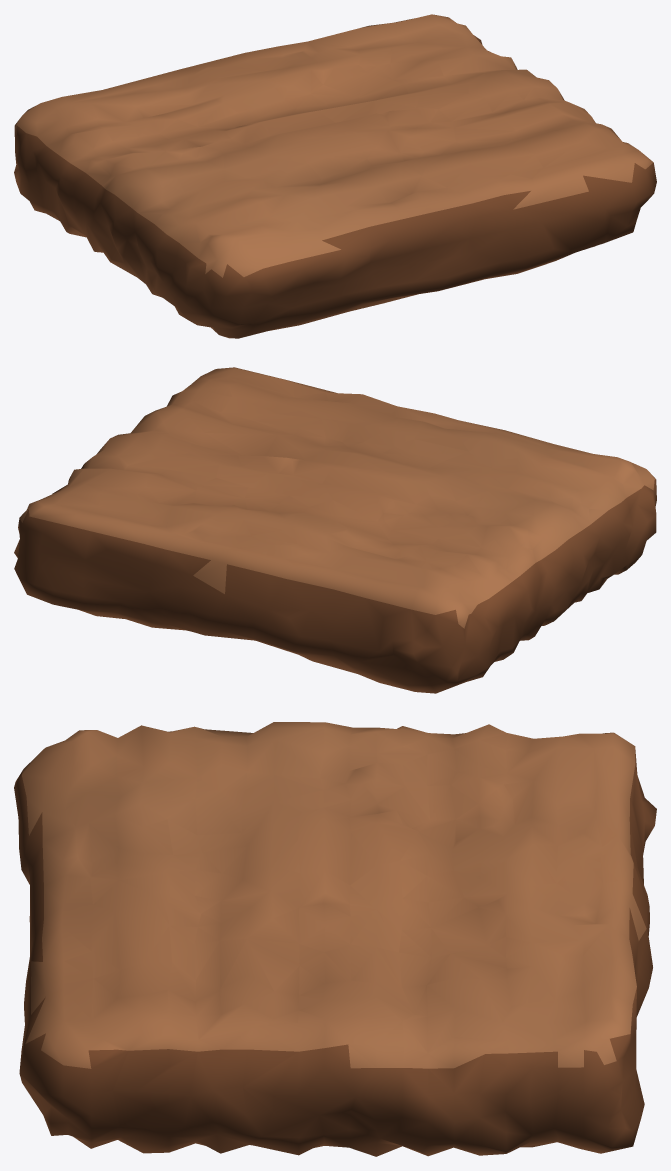
The model's file is canopy_bark_ledge.glb.
The picture shows the model from 3 angles, top to bottom: view 1: azimuth 30°, elevation 25°; view 2: azimuth 150°, elevation 25°; view 3: azimuth 270°, elevation 25°; orthographic projection. The views are drawn at different scales.
Visible parts, largest first — view 1: canopy_bark_ledge; view 2: canopy_bark_ledge; view 3: canopy_bark_ledge.
Boxes of the visible parts, x1,y1,x2,y2 form: canopy_bark_ledge: [14, 14, 656, 338]; canopy_bark_ledge: [14, 367, 656, 693]; canopy_bark_ledge: [14, 722, 656, 1156].
Bounding box in the file's own units: 3.51 × 0.8507 × 2.9.
